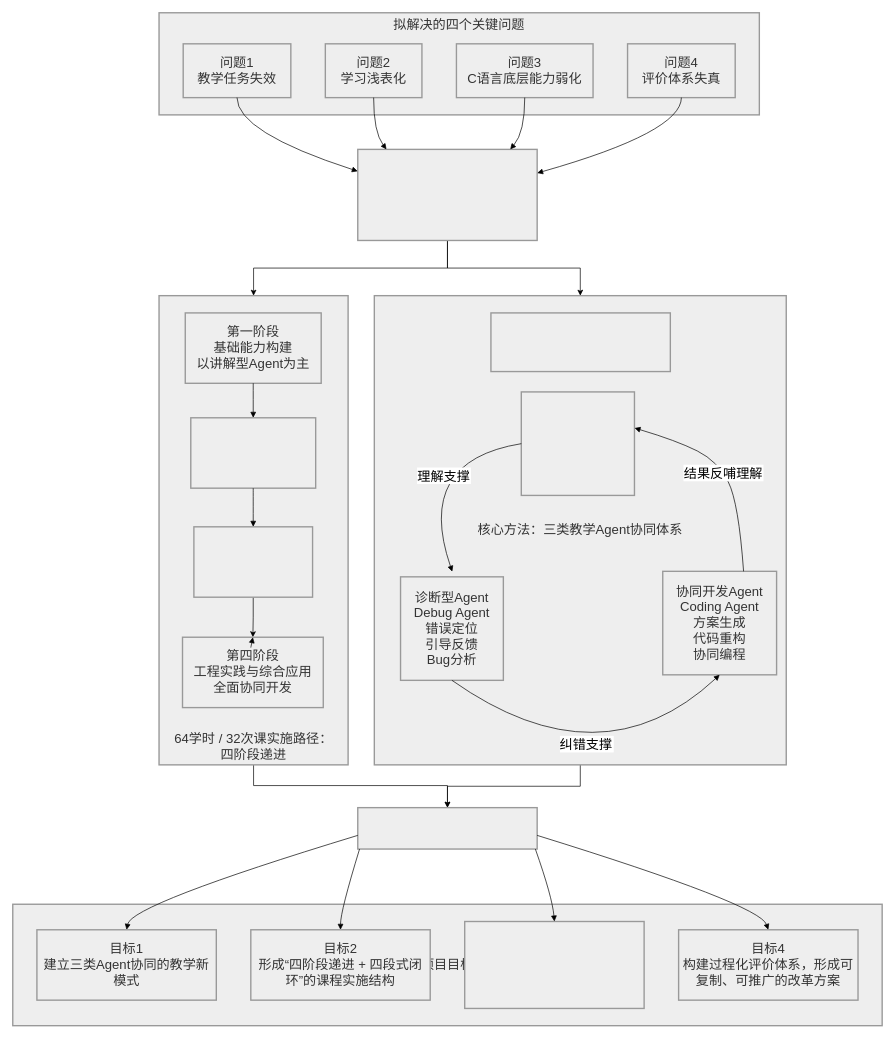
The diagram is 894 pixels wide and 1038 high, and some of its shapes have lost their labels. The shapes that lost their labels are listed below. From the top down, each one's centre as x and y in pixels, then its label:
point (447, 194): 总体解决思路 以自建教学Agent为核心认知支架，重构C语言课程“教—学—练—评”全过程
point (580, 342): 自建教学Agent平台 课程知识库 / 案例库 / 错题库 / 评价规则库 / 过程数据仓
point (253, 453): 第二阶段 核心机制强化 引入诊断型Agent
point (577, 443): 讲解型Agent Concept Agent 概念解释 类比图示 代码讲解
point (253, 562): 第三阶段 理解与协同过渡 三类Agent联动
point (447, 828): 过程化评价与反馈闭环
point (554, 964): 目标3 提升代码理解深度、指针/内存等底层能力与AI协同开发能力
